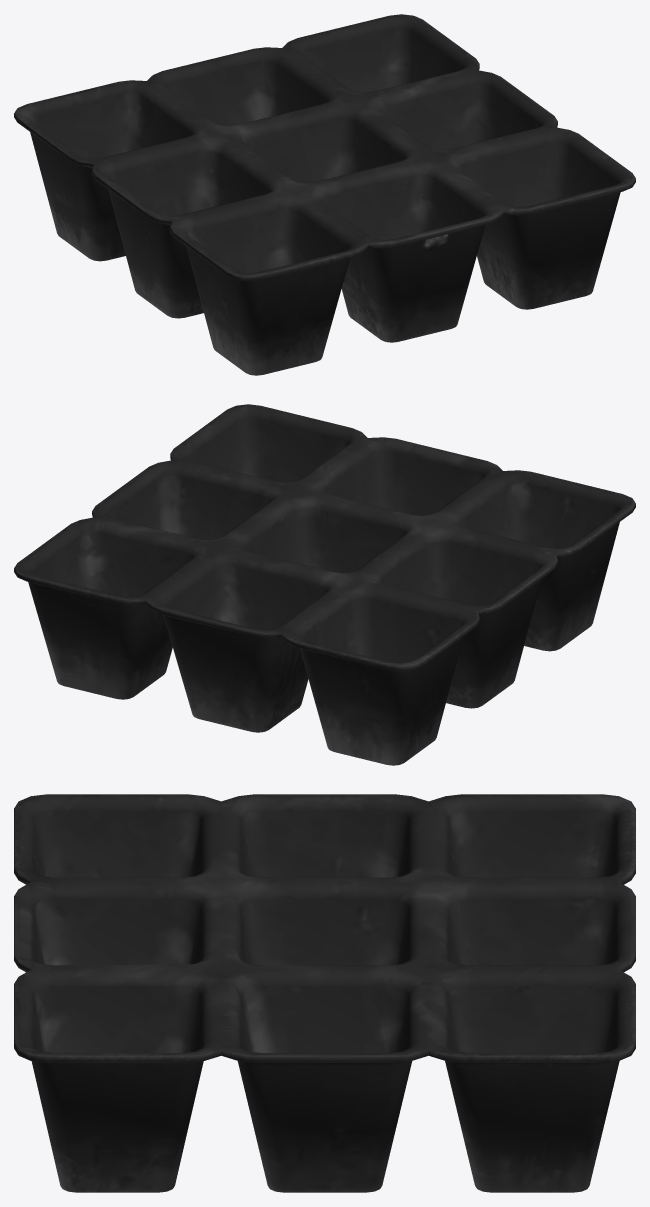
Rendered from seeding_tray_01.glb.
The picture shows the model from 3 angles, top to bottom: view 1: azimuth 30°, elevation 25°; view 2: azimuth 150°, elevation 25°; view 3: azimuth 270°, elevation 25°; orthographic projection. The views are drawn at different scales.
Parts seen in each view (by area): view 1: seeding_tray_01; view 2: seeding_tray_01; view 3: seeding_tray_01.
Part boxes in pixels (x1=…): seeding_tray_01: x1=14, y1=14, x2=635, y2=375; seeding_tray_01: x1=14, y1=404, x2=635, y2=765; seeding_tray_01: x1=14, y1=794, x2=635, y2=1192.
Size of the model in its own units: 0.2202 by 0.0608 by 0.2202.
1 material, 1 textured.
